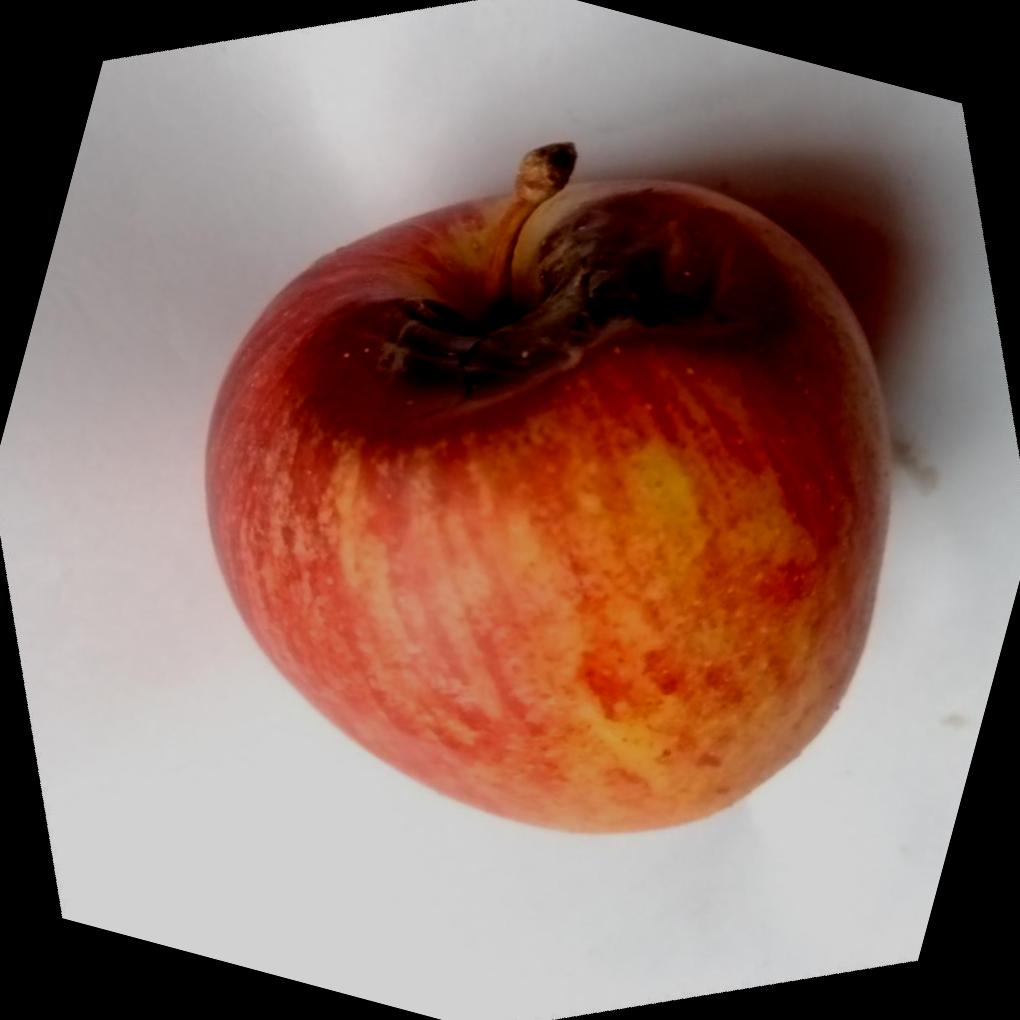FreshOrange: (201, 142, 895, 839)
